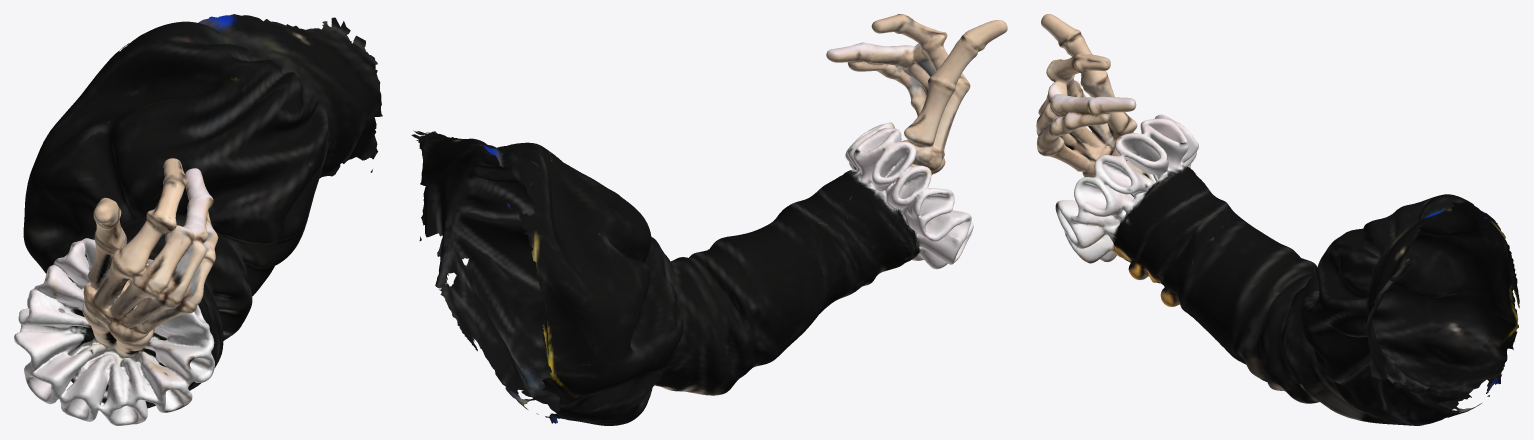
File: brazoDer.obj
The picture shows the model from 3 angles, left to right: view 1: azimuth 30°, elevation 25°; view 2: azimuth 150°, elevation 25°; view 3: azimuth 270°, elevation 25°; orthographic projection. The views are drawn at different scales.
Visible parts, largest first — view 1: brazoDer; view 2: brazoDer; view 3: brazoDer.
Part boxes in pixels (x1,y1,x2,y2): brazoDer: (14, 14, 382, 425); brazoDer: (411, 14, 1007, 425); brazoDer: (1036, 14, 1519, 425).
Size of the model in its own units: 0.4632 by 0.3237 by 0.4664.
Materials: 1 (1 with a texture image).
